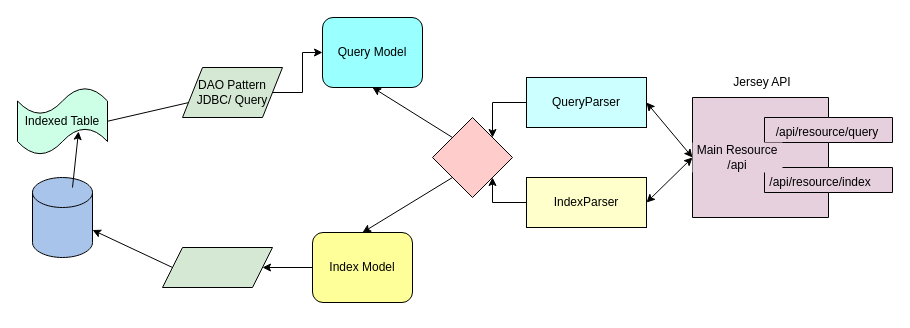
The diagram is 910 pixels wide and 328 high, and some of its shapes have lost their labels. Here are the shapes that lost their labels. From the top down, the box of each, then its label:
(432, 116, 512, 198): Validation
(32, 176, 92, 258): MySQL DB
(162, 246, 272, 288): DAO Pattern JDBC / Index
